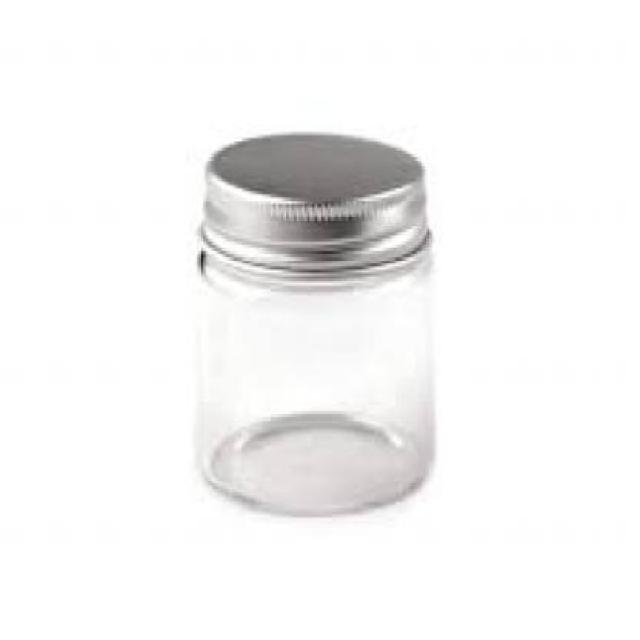kaca: (195, 248, 432, 515)
